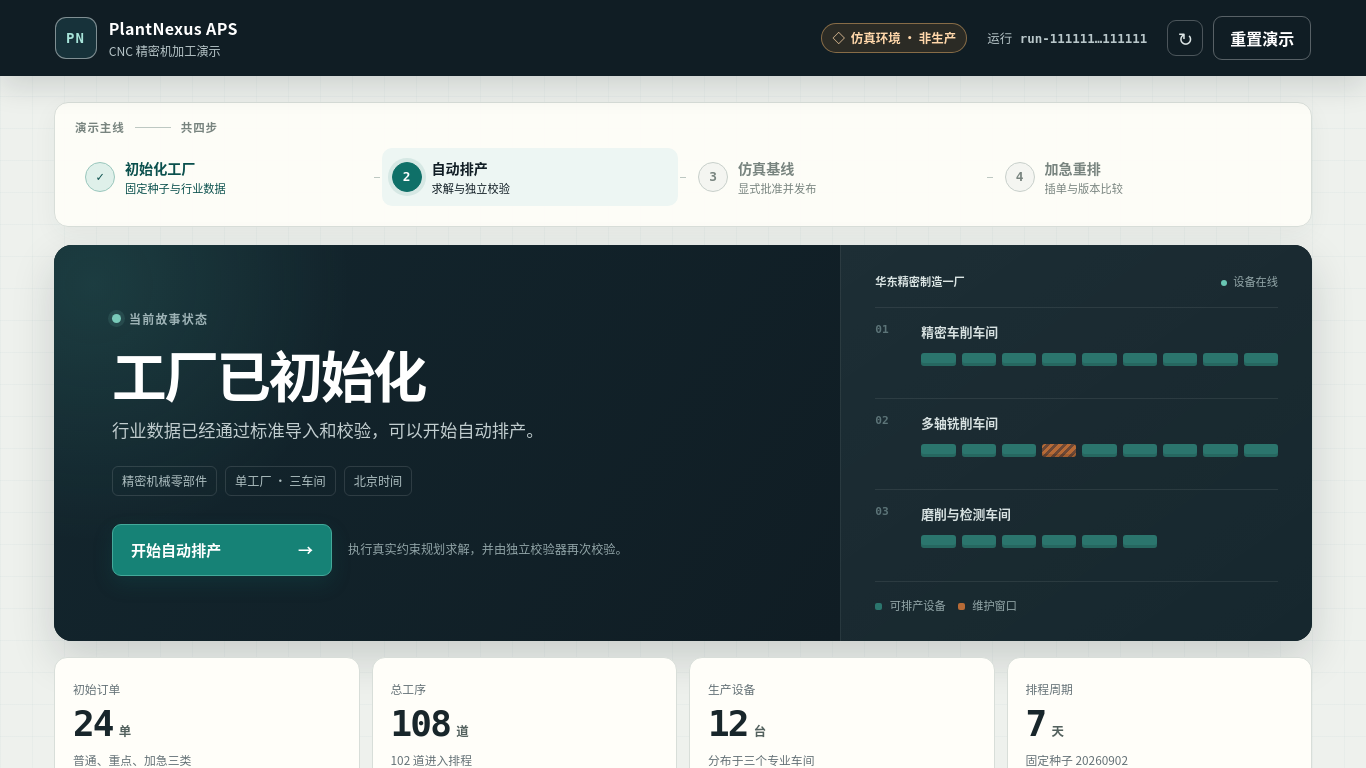
中文 Demo 故事首页 › 已有运行的重置需要二次确认，并支持 Escape 取消
Click the button "重置演示" at [1262, 38], box 1213,16 -> 1311,60
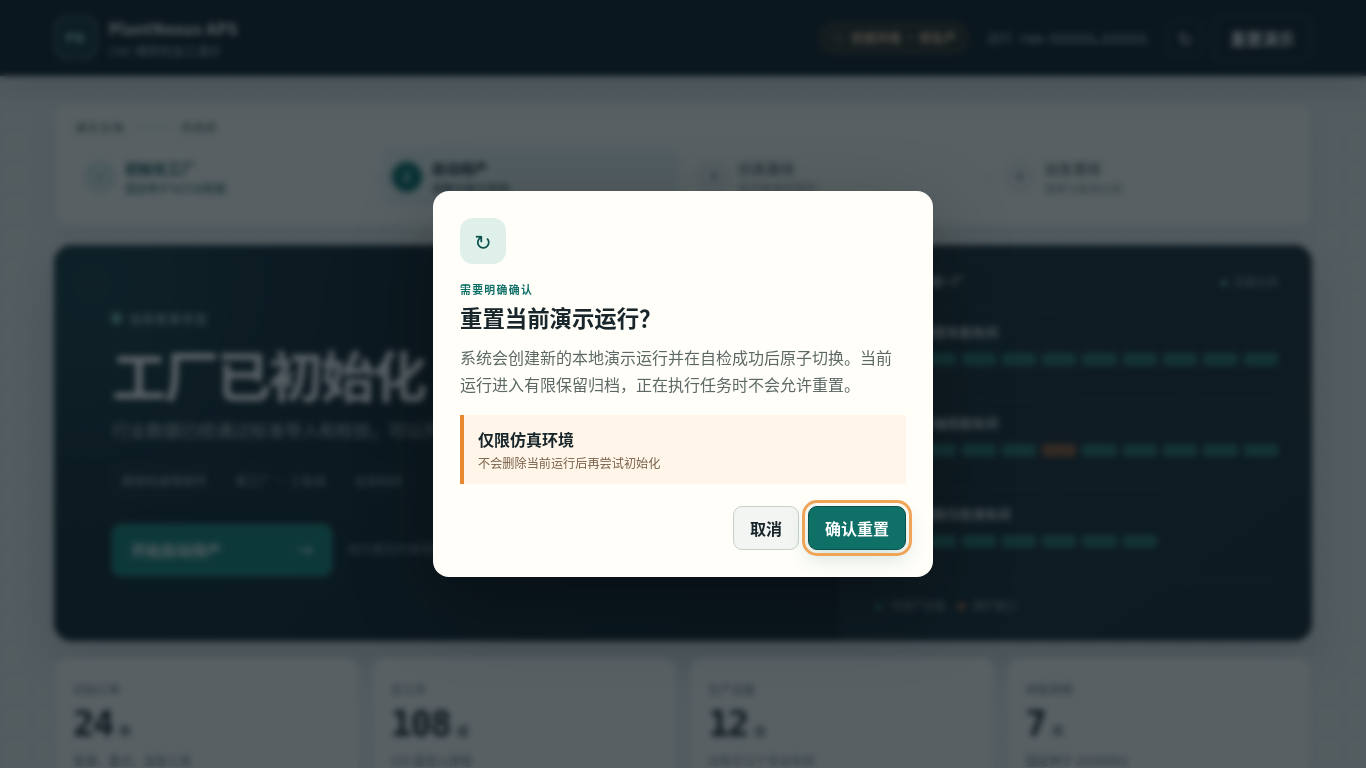
Expected: the dialog "重置当前演示运行？" is shown, 433,191 -> 933,577
Press Tab
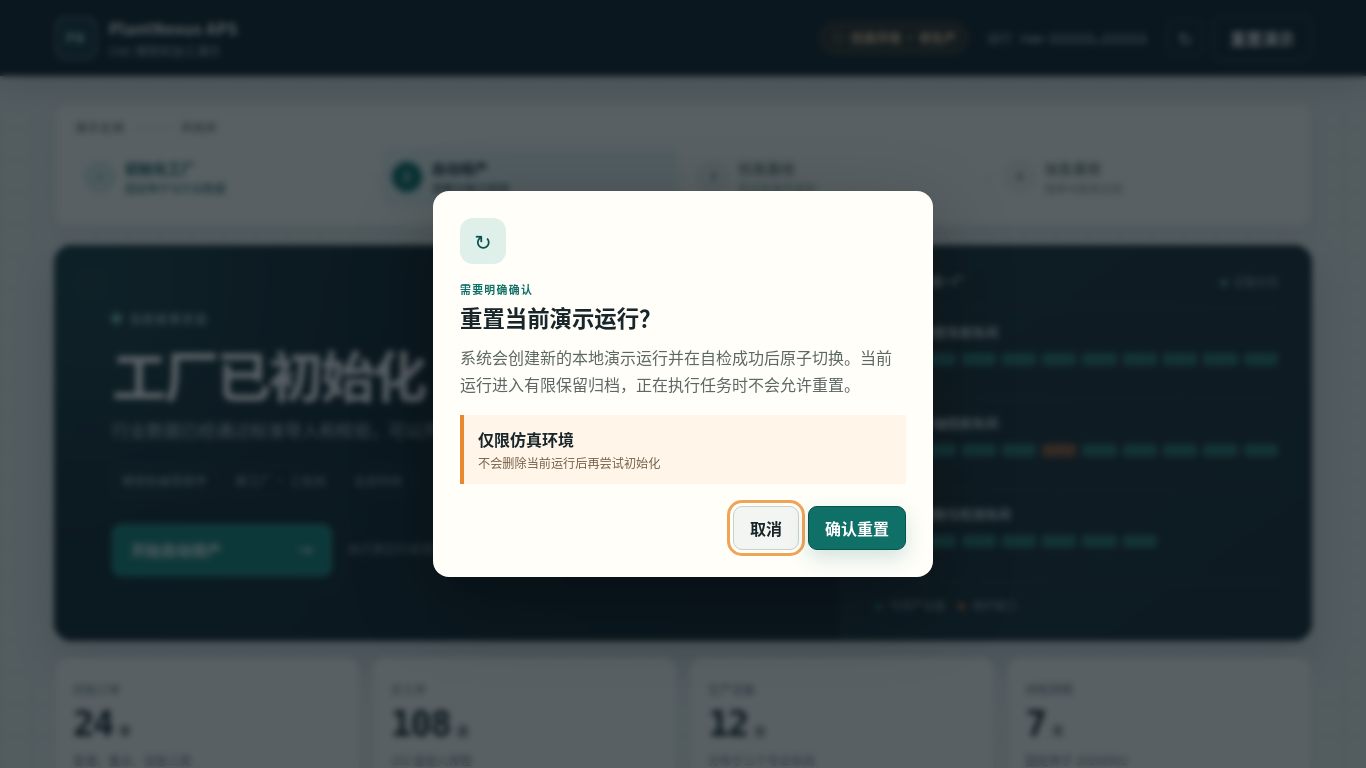
Press Shift+Tab
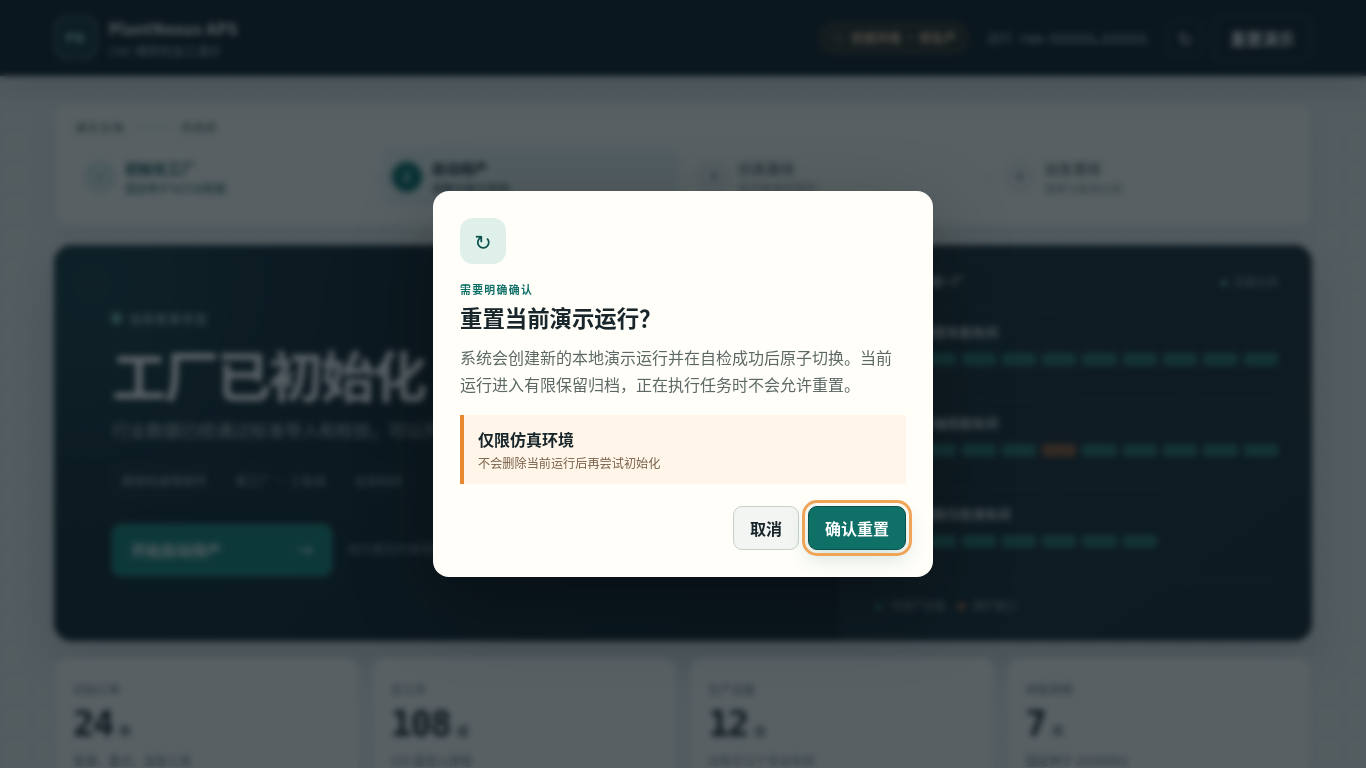
Press Escape
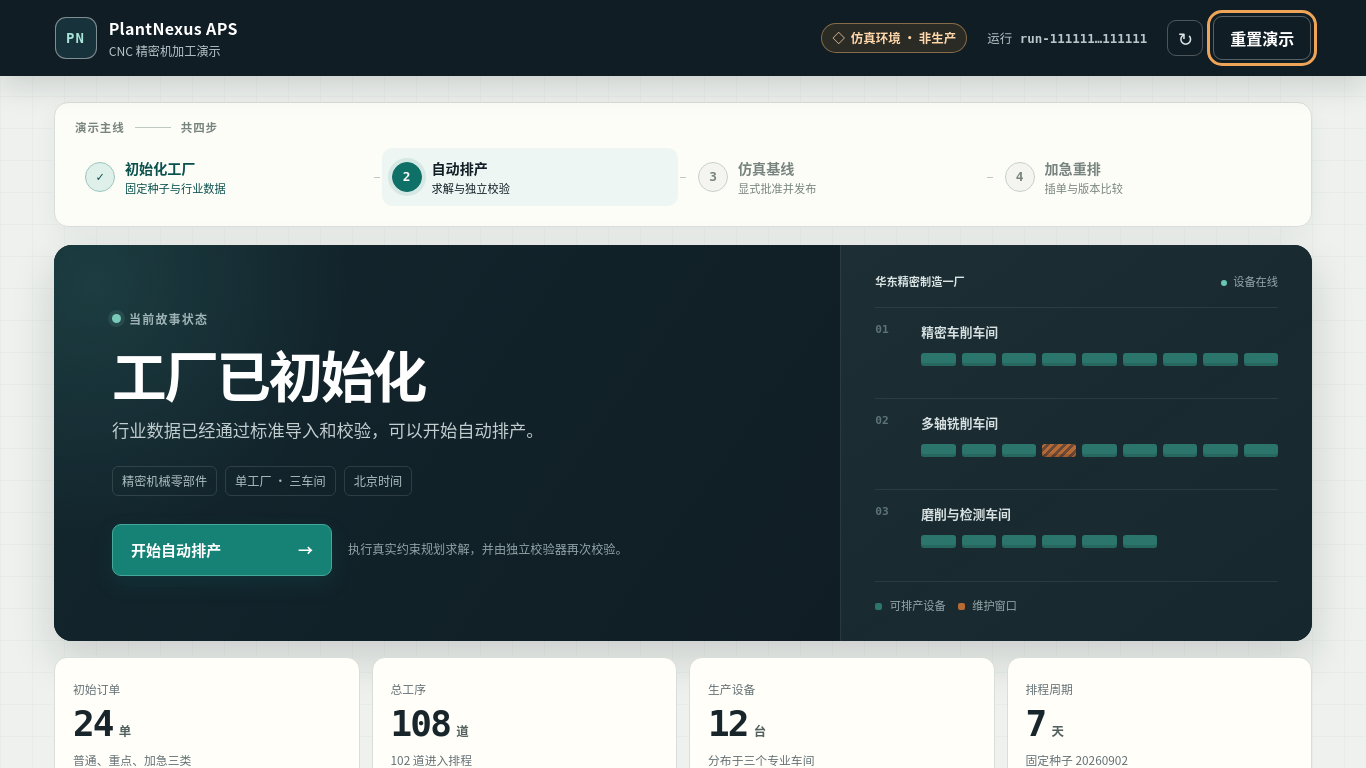
Expected: the dialog is gone
